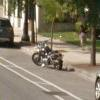Motorcycle: (26, 37, 67, 83)
